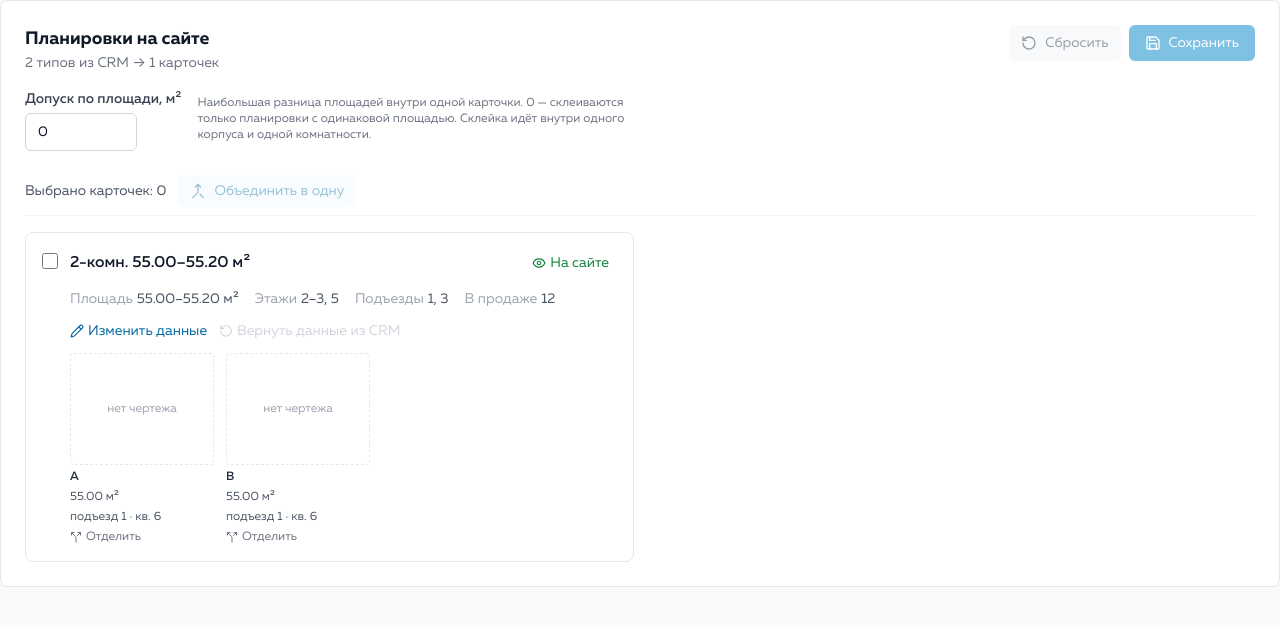
Test: PlanGroupingPanel — группа › «от» больше «до»: ошибка у группы, сохранение закрыто, сервер не дёргаем
Click the button "Изменить данные" at (138, 331), box [70, 321, 207, 341]
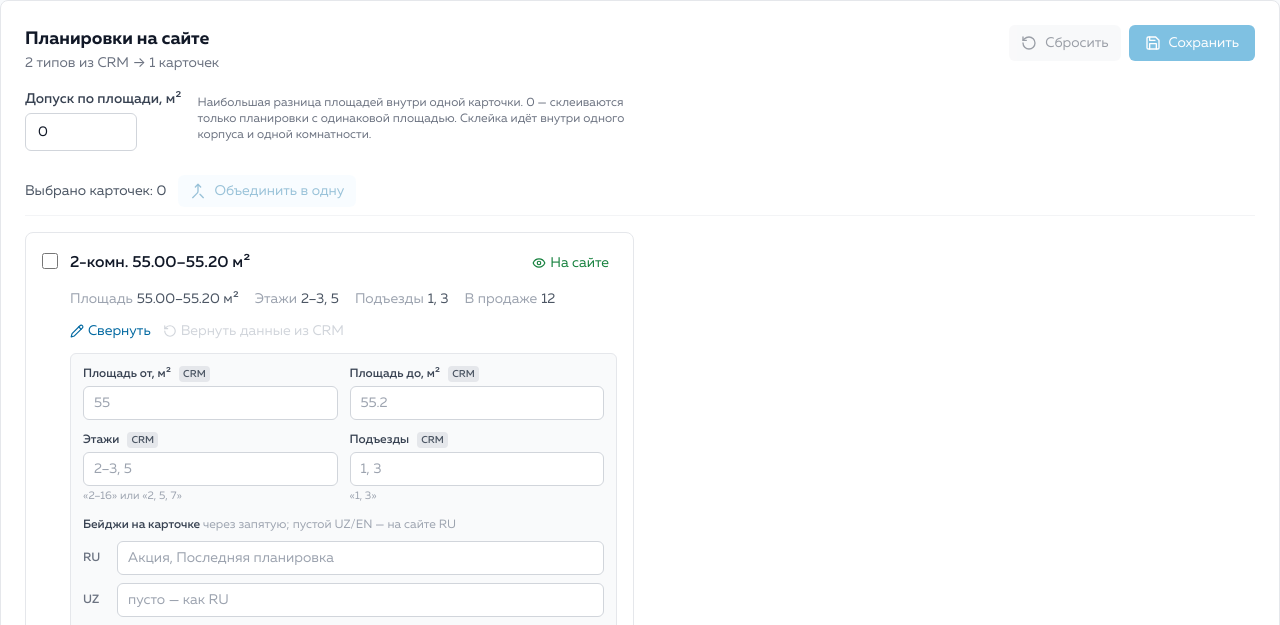
Type "40" into the field labelled "Площадь до, м²" at (477, 403), box [350, 386, 604, 420]
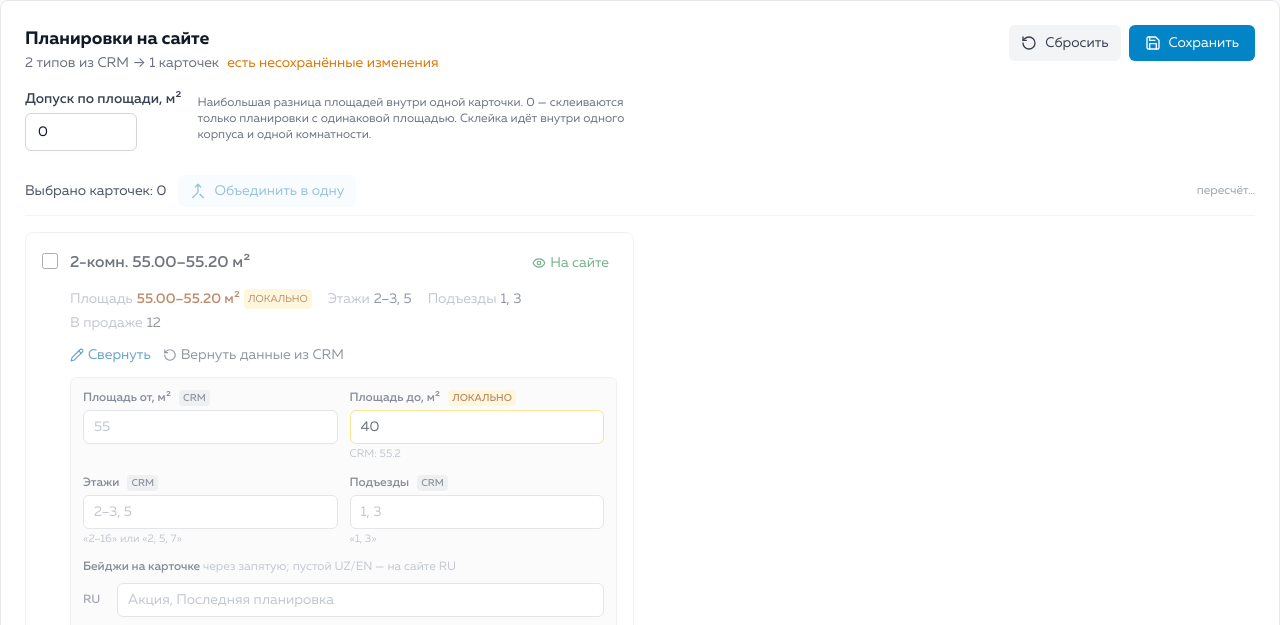
Type "50" into the field labelled "Площадь от, м²" at (210, 427), box [83, 410, 338, 444]
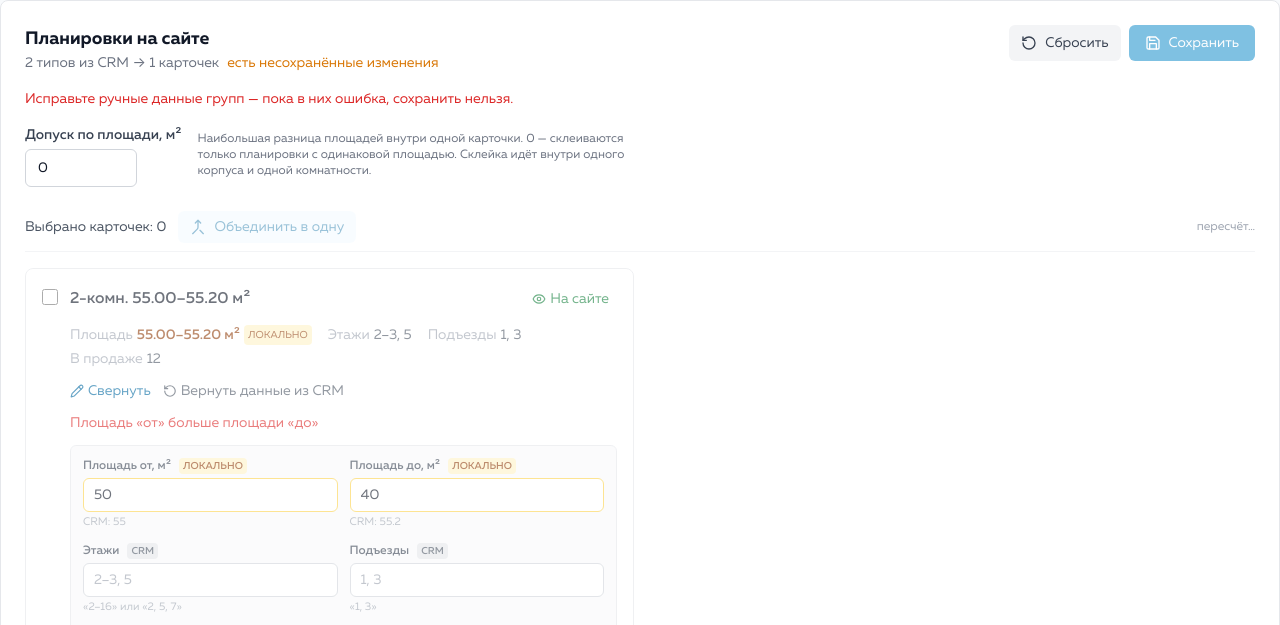
Expected: the text "Площадь «от» больше площади «до»" is shown, [70, 416, 318, 430]
Expected: the button "Сохранить" is disabled, [1129, 25, 1255, 61]
